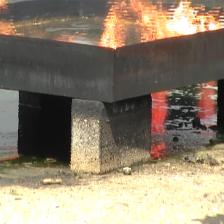fire: (105, 7, 204, 35)
